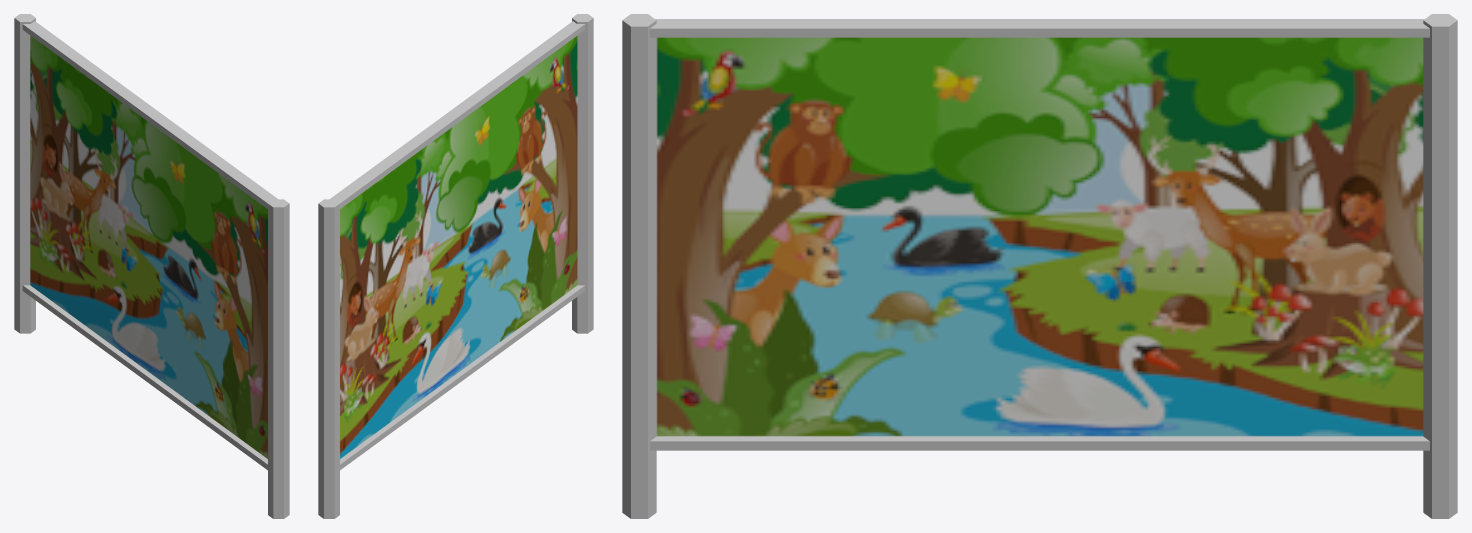
File: guanggaopai_07.FBX
3 renders of one model, left to right at view 1: azimuth 30°, elevation 25°; view 2: azimuth 150°, elevation 25°; view 3: azimuth 270°, elevation 25°, orthographic. The views are drawn at different scales.
Visible parts, largest first — view 1: guanggaopai_07; view 2: guanggaopai_07; view 3: guanggaopai_07.
Part boxes in pixels (x1,y1,x2,y2): guanggaopai_07: (14,14,289,518); guanggaopai_07: (318,14,593,518); guanggaopai_07: (622,14,1457,518).
Size of the model in its own units: 50.93 by 932 by 1433.
Materials: 1 (1 with a texture image).
